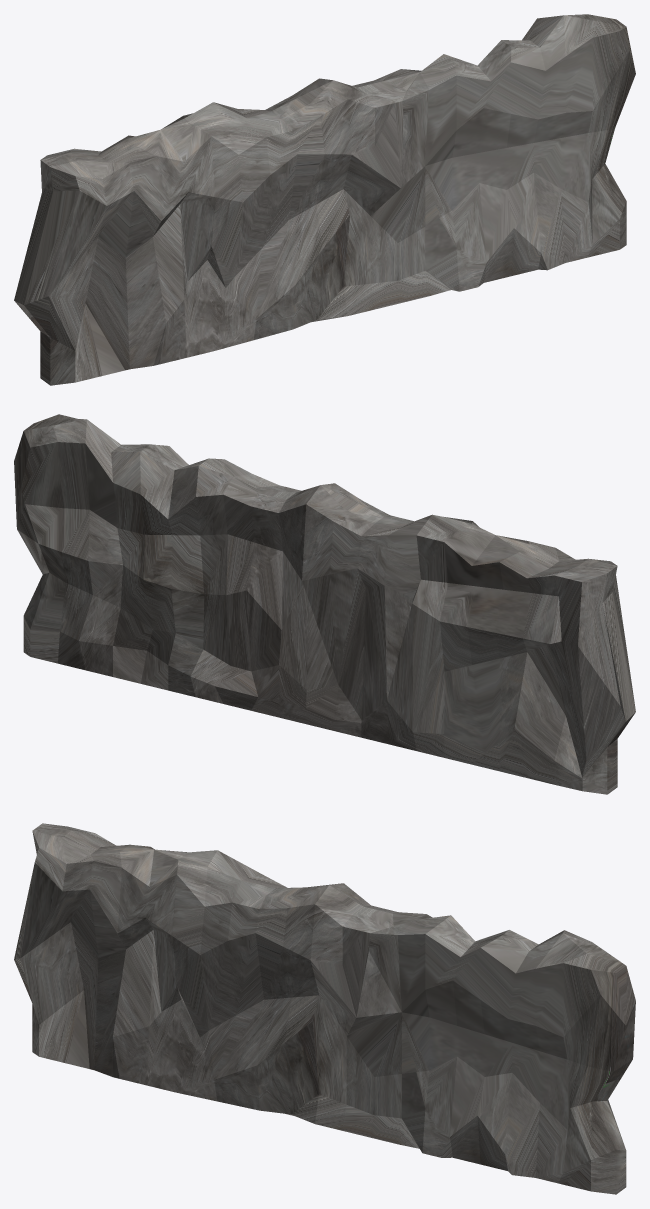
File: Wall.fbx
The picture shows the model from 3 angles, top to bottom: view 1: azimuth 30°, elevation 25°; view 2: azimuth 150°, elevation 25°; view 3: azimuth 330°, elevation 25°; orthographic projection.
Parts seen in each view (by area): view 1: pCube2; view 2: pCube2; view 3: pCube2.
Part boxes in pixels (<box>): pCube2: <box>14,14,635,385</box>; pCube2: <box>14,414,635,794</box>; pCube2: <box>14,823,635,1194</box>.
Size of the model in its own units: 3.08 by 1.16 by 0.4024.
